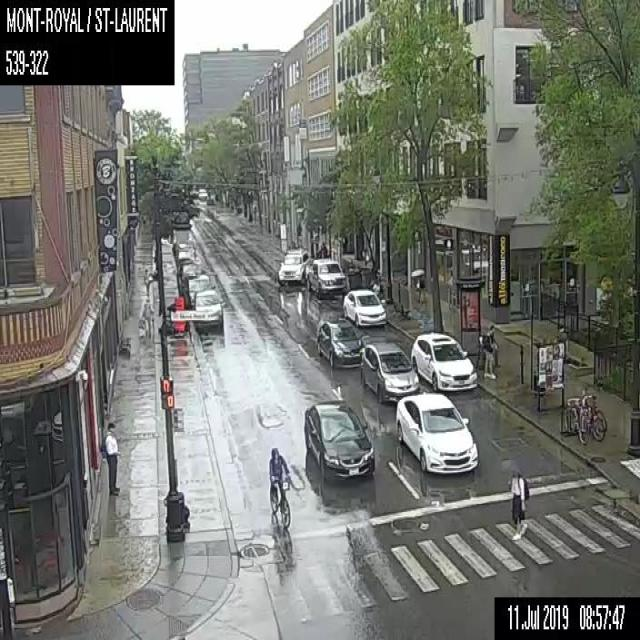construction: (173, 294, 184, 334)
cyclist: (266, 447, 291, 525)
pedestrian: (99, 420, 122, 496), (507, 467, 528, 540), (480, 324, 497, 379), (137, 295, 154, 338), (410, 267, 424, 302), (143, 267, 150, 294), (316, 240, 327, 256)
vehicle: (396, 392, 478, 474), (302, 396, 374, 481), (410, 331, 477, 391), (359, 341, 419, 402), (316, 317, 363, 367), (342, 288, 386, 327), (305, 257, 345, 298), (276, 245, 310, 285), (190, 289, 225, 327), (180, 273, 211, 307), (178, 262, 202, 292), (172, 239, 195, 258), (176, 250, 194, 274)
